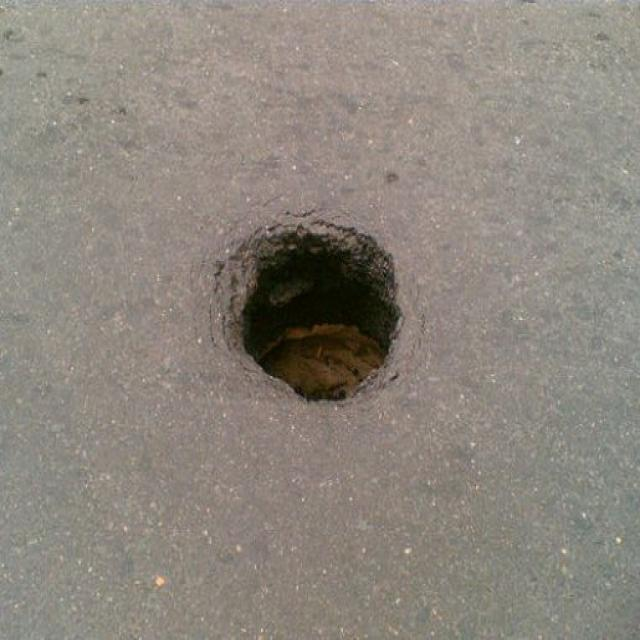pothole: (208, 204, 408, 404)
